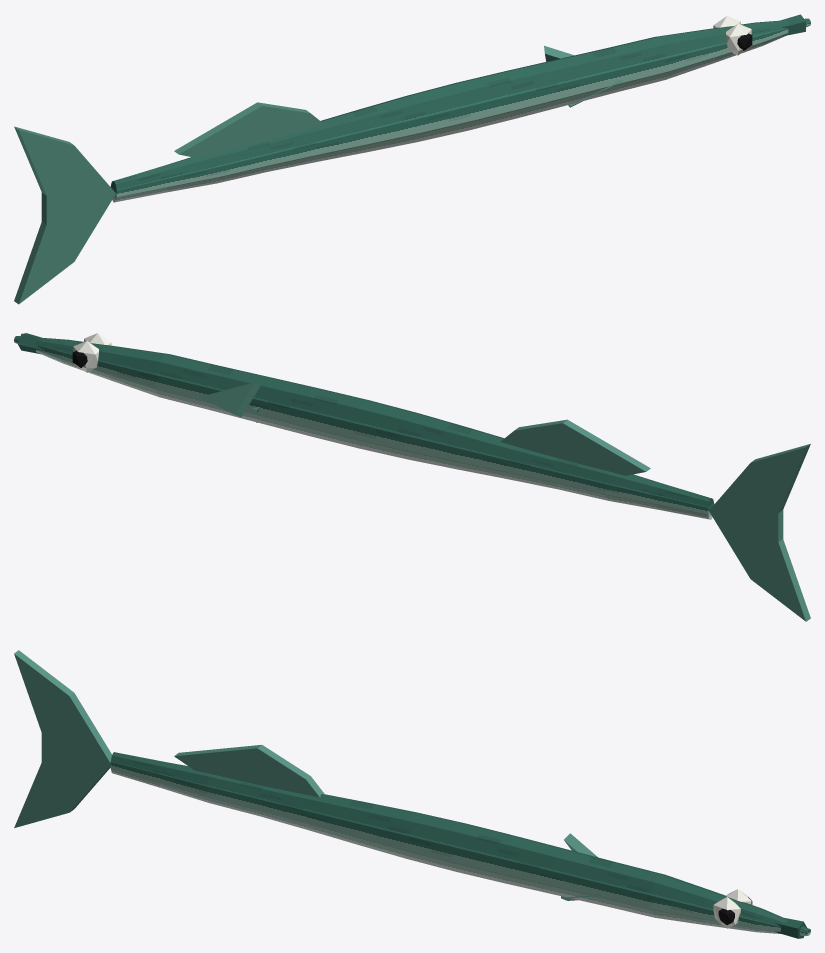
Rendered from long_tom.glb.
The picture shows the model from 3 angles, top to bottom: view 1: azimuth 30°, elevation 25°; view 2: azimuth 150°, elevation 25°; view 3: azimuth 330°, elevation 25°; orthographic projection.
Visible parts, largest first — view 1: fish_long_tom; view 2: fish_long_tom; view 3: fish_long_tom.
Boxes of the visible parts, <box> form: fish_long_tom: <box>14,14,810,304</box>; fish_long_tom: <box>14,333,810,621</box>; fish_long_tom: <box>14,650,810,938</box>.
Size of the model in its own units: 1.14 by 0.24 by 0.0811.
Materials: 5 (1 with a texture image).
